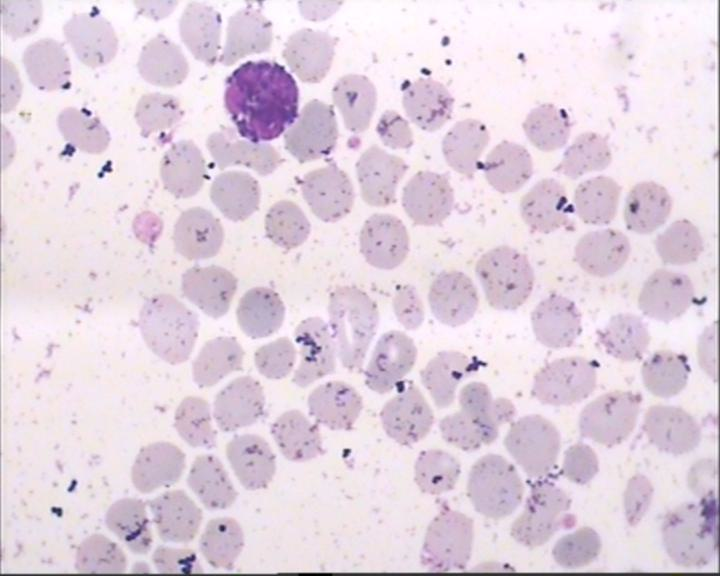baso: (217, 50, 305, 144)
